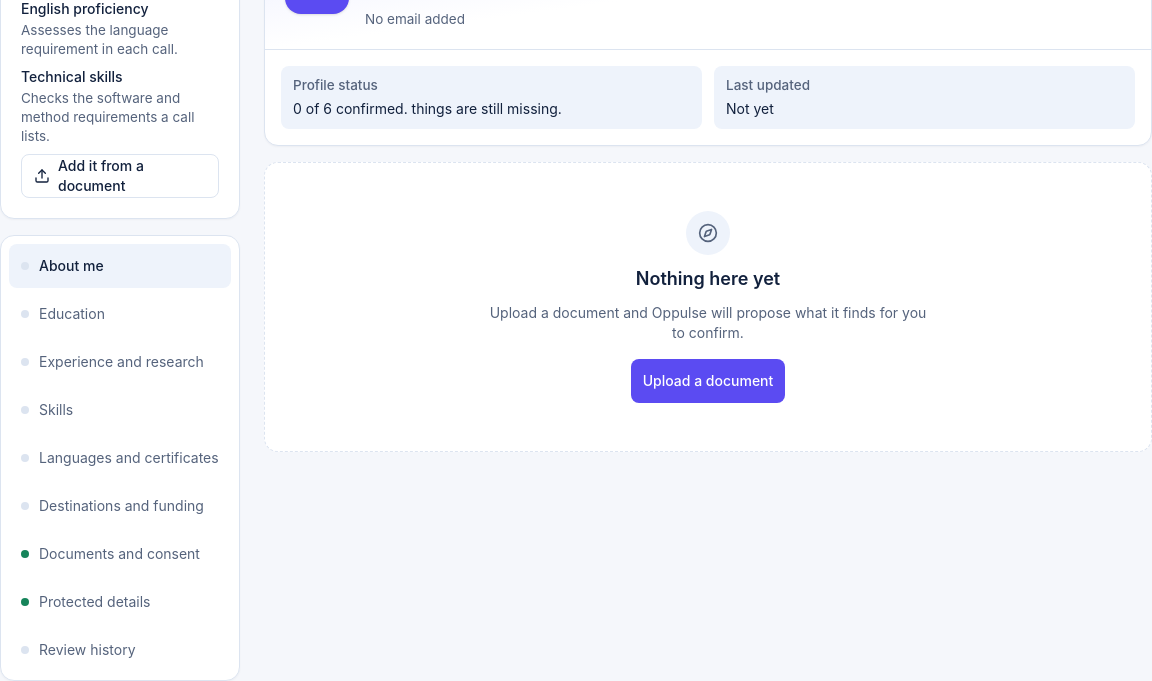
ProfilePassportPage › says what a pending fact is holding up
(page scrolled)
Click the button "Languages and certificates" at point(120, 458), box [9,436,231,480]
(page scrolled)
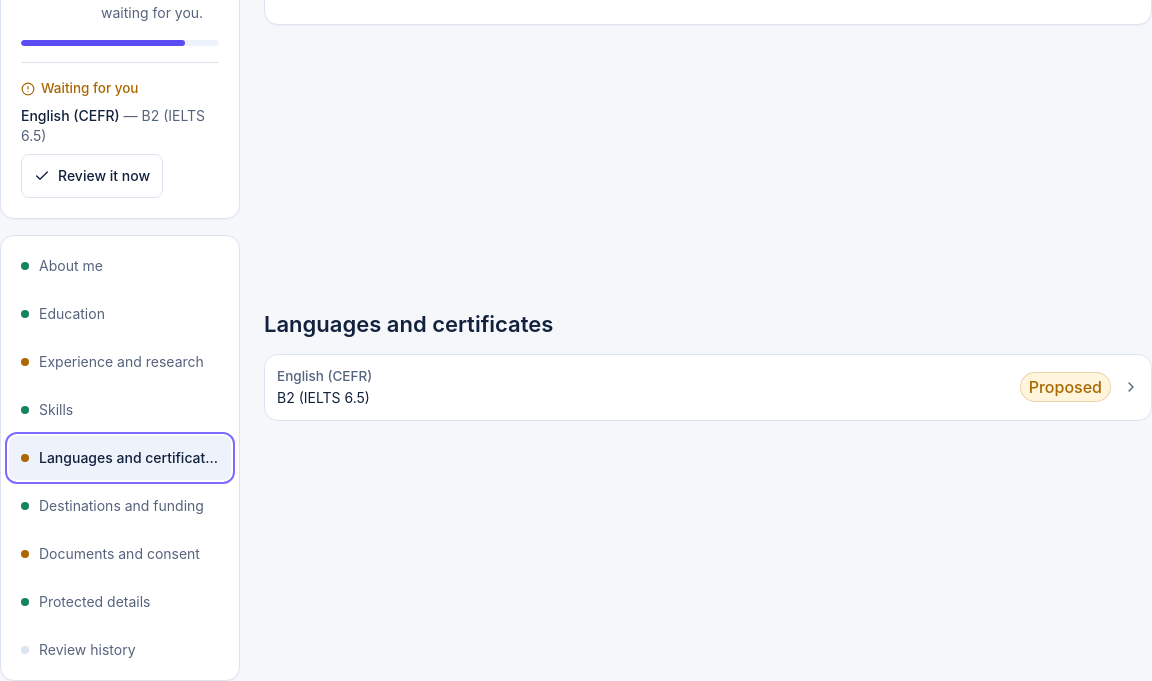
Click the button "English (CEFR) B2 (IELTS 6.5) Proposed" at point(325, 376), box [264,354,1151,420]
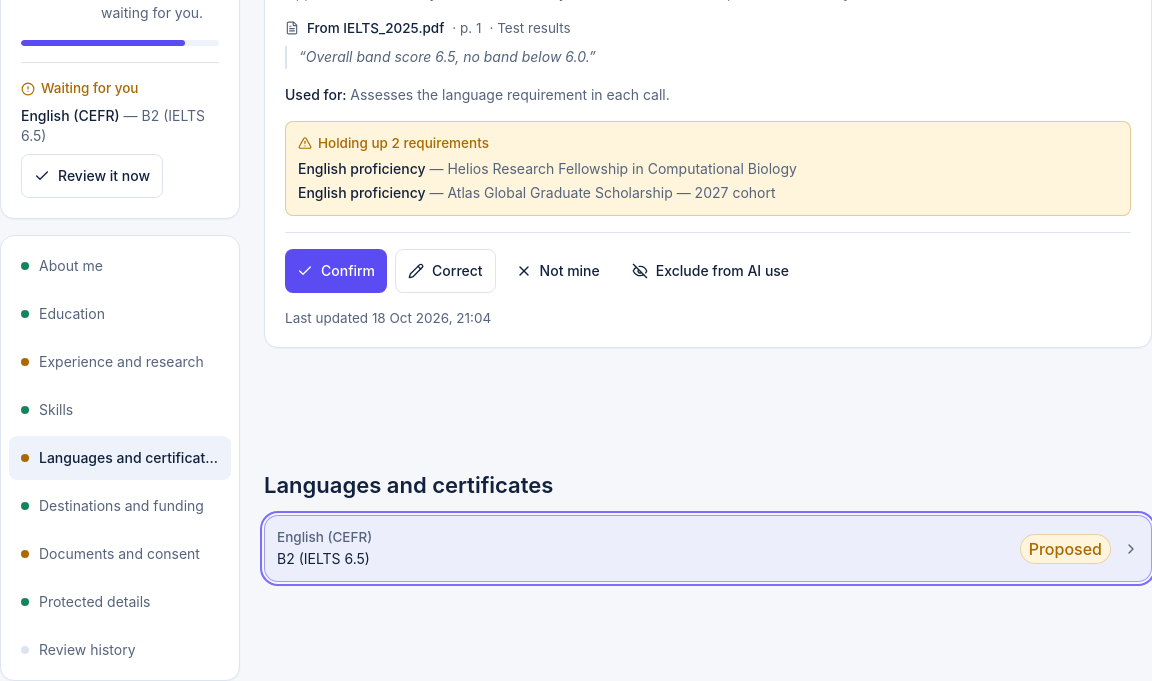
Now the text "Holding up 2 requirements" is shown, box [298,135,489,151]
Now the 1st text "English proficiency" is shown, box [298,160,426,176]
